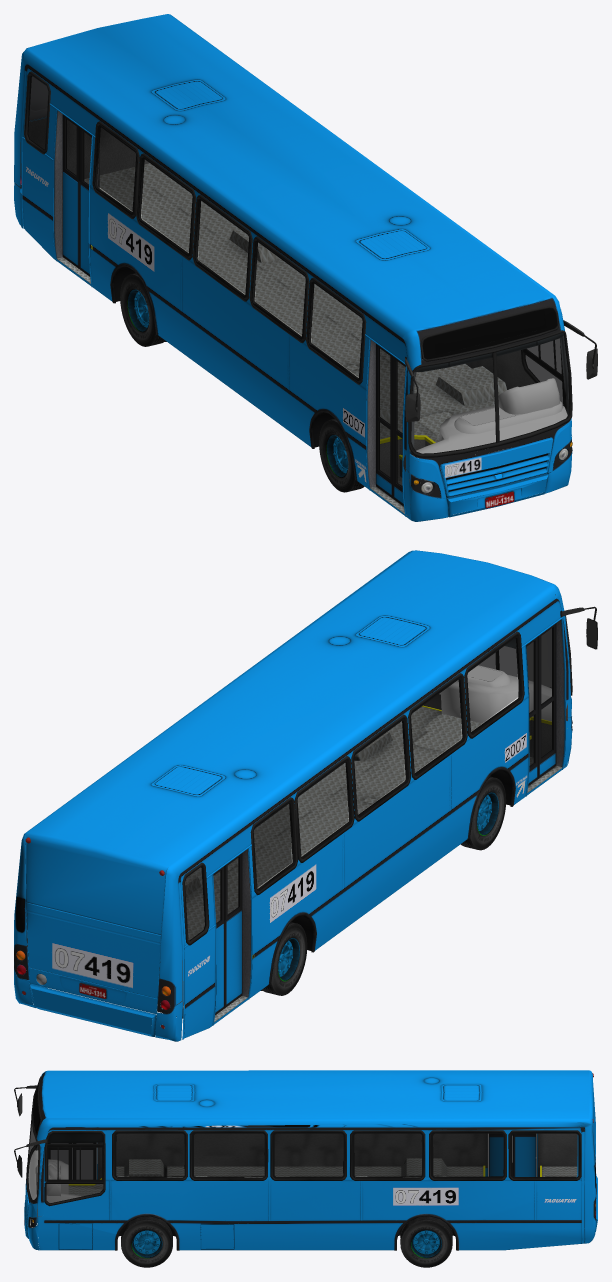
Rendered from Volvo_Bus _Testing.fbx.
3 renders of one model, top to bottom at view 1: azimuth 30°, elevation 25°; view 2: azimuth 150°, elevation 25°; view 3: azimuth 270°, elevation 25°, orthographic. The views are drawn at different scales.
Parts seen in each view (by area): view 1: Bus, Back_Wheels, Front_Wheels; view 2: Bus, Front_Wheels, Back_Wheels; view 3: Bus, Back_Wheels, Front_Wheels.
Boxes of the visible parts, x1,y1,x2,y2 form: Bus: (14, 14, 597, 521); Back_Wheels: (120, 273, 166, 346); Front_Wheels: (319, 418, 364, 492); Bus: (14, 550, 597, 1041); Front_Wheels: (460, 776, 506, 850); Back_Wheels: (260, 922, 307, 995); Bus: (14, 1070, 597, 1250); Back_Wheels: (400, 1216, 452, 1267); Front_Wheels: (121, 1216, 172, 1267).
Size of the model in its own units: 302 by 320 by 1131.
